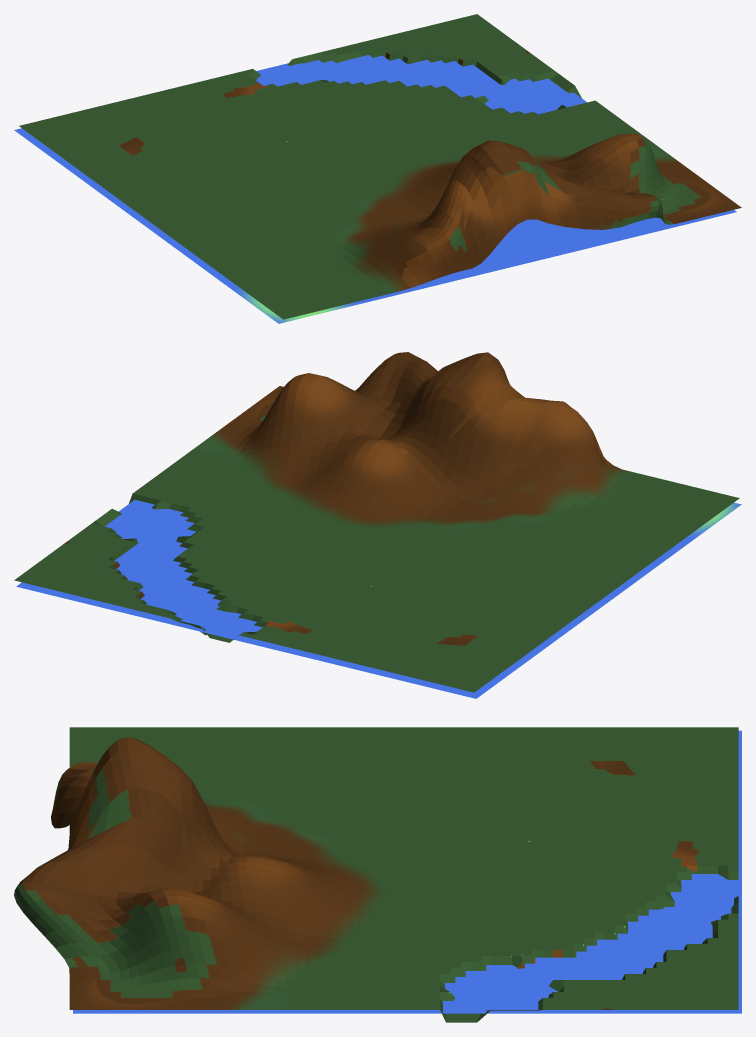
Rendered from Terrain.fbx.
3 renders of one model, top to bottom at view 1: azimuth 30°, elevation 25°; view 2: azimuth 150°, elevation 25°; view 3: azimuth 270°, elevation 25°, orthographic. The views are drawn at different scales.
Parts seen in each view (by area): view 1: Plane.001, Plane; view 2: Plane.001, Plane; view 3: Plane.001, Plane.
Boxes of the visible parts, x1,y1,x2,y2 form: Plane.001: [19, 14, 741, 319]; Plane: [14, 55, 736, 323]; Plane.001: [14, 352, 739, 692]; Plane: [16, 500, 741, 698]; Plane.001: [14, 727, 738, 1022]; Plane: [73, 730, 741, 1013].
Bounding box in the file's own units: 4448 × 1182 × 4788.
2 materials, 2 textured.
